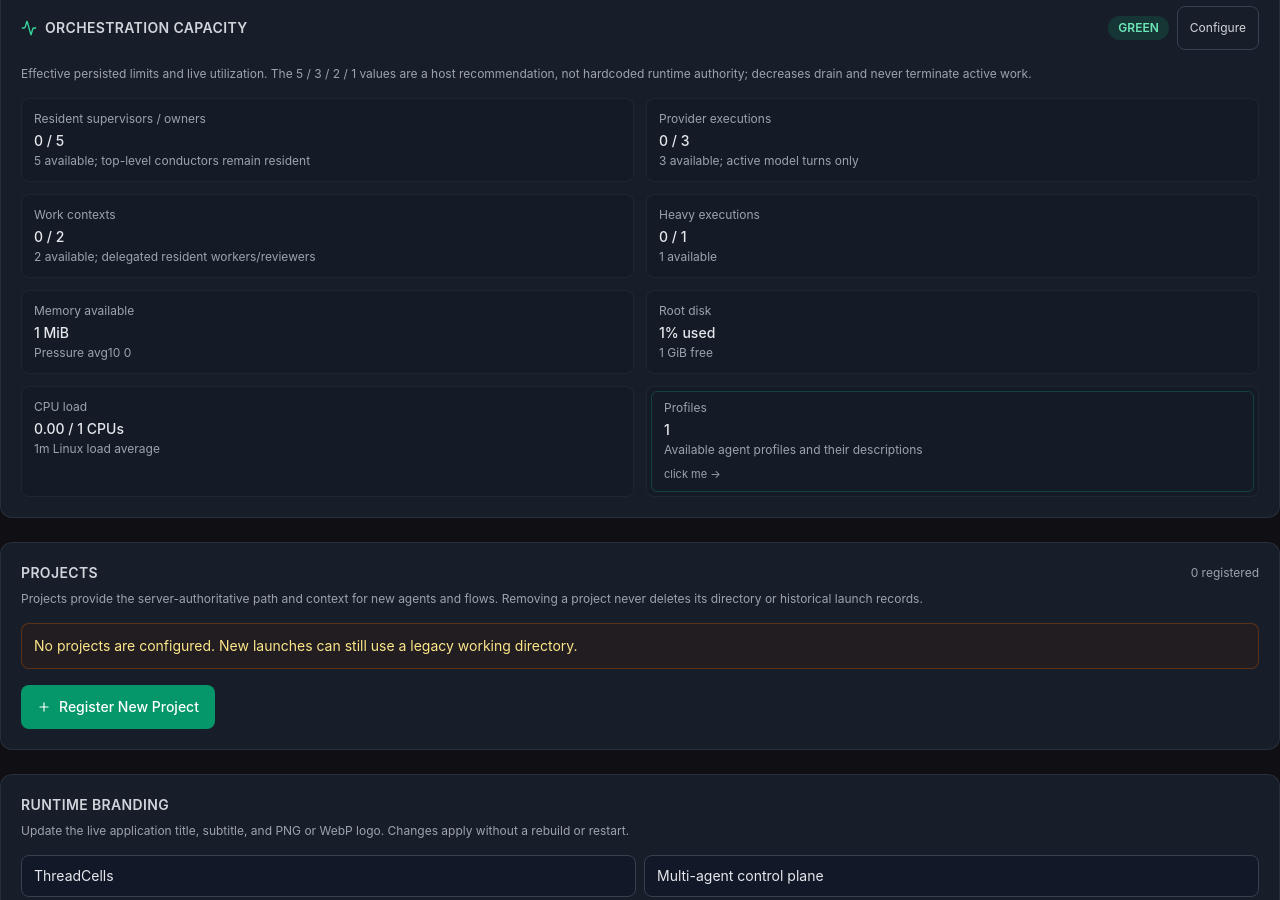
Test: canonical profile metadata UI › uses the same canonical description and English modal copy in Settings
(page scrolled)
Click the text "Available agent profiles and their descriptions".
click(793, 450)  # box [664,442,923,457]
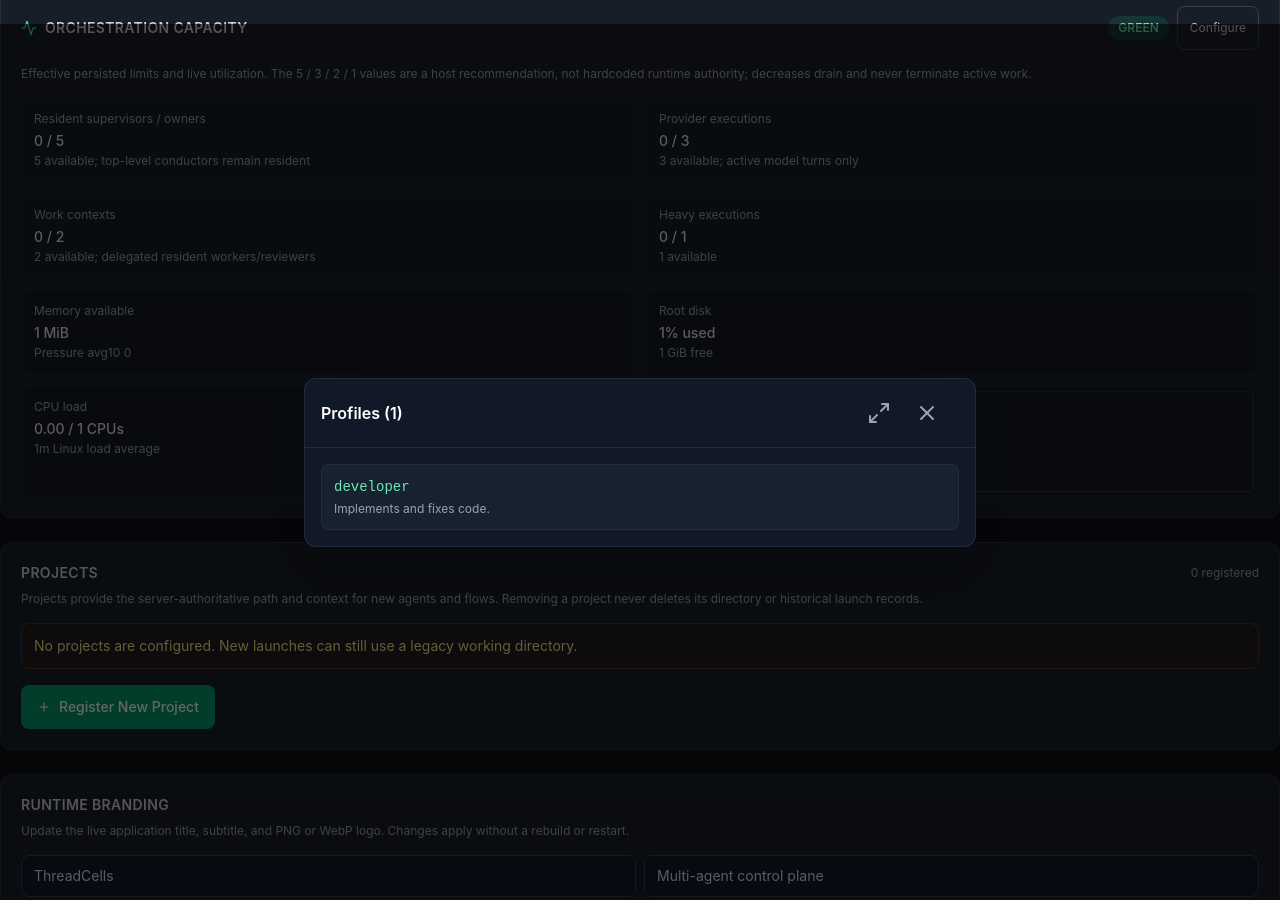
Expected: the dialog "Profiles" shows "Implements and fixes code.", [334,500,490,516]
Expected: the button named "Fullscreen" is shown, [867,390,911,434]
Expected: the button named "Close" is shown, [915,390,959,434]
